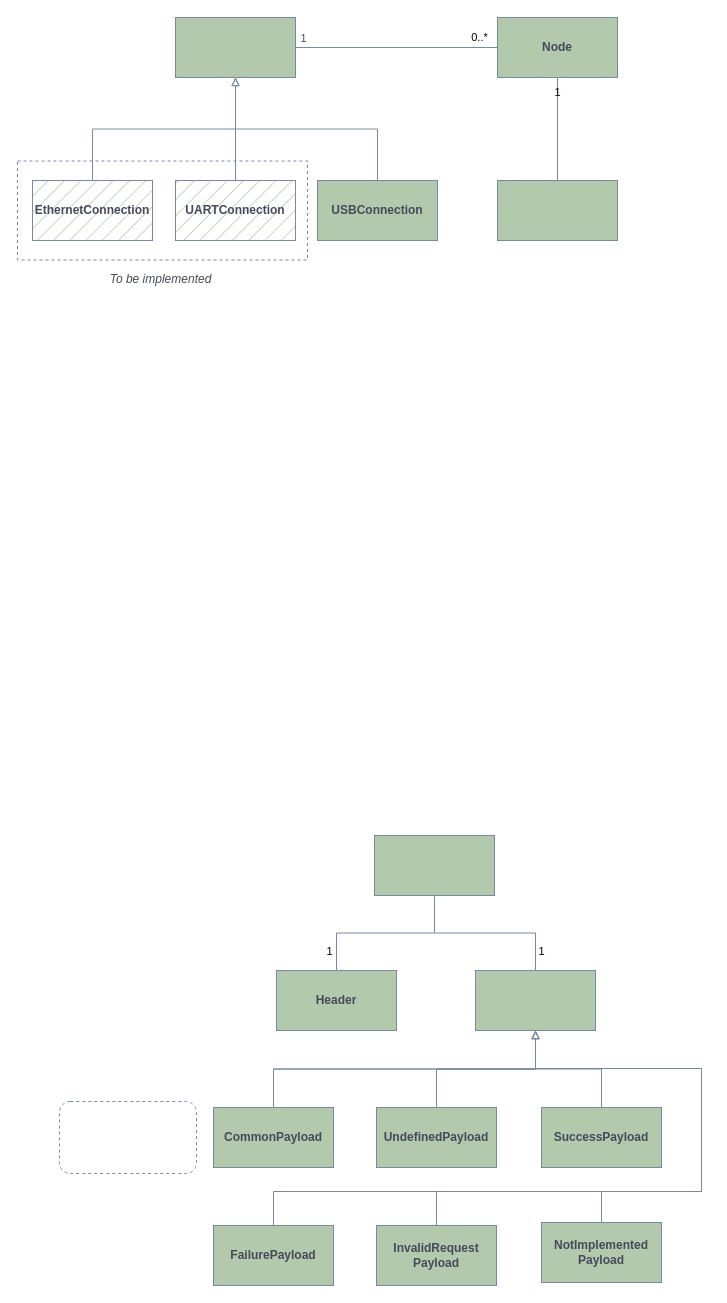
This 727x1303 diagram has some shape labels left out. The shapes that lost their labels are listed below. From the top down, each one's centre as x and y in pixels, then its label:
At point (235, 47): "<<interface>> Connection".
At point (557, 210): "Device".
At point (434, 865): "Packet".
At point (535, 1000): "<<interface>> Payload".
At point (127, 1137): "CommonPayload has several subclasses for basic Amfiprot functionality".
